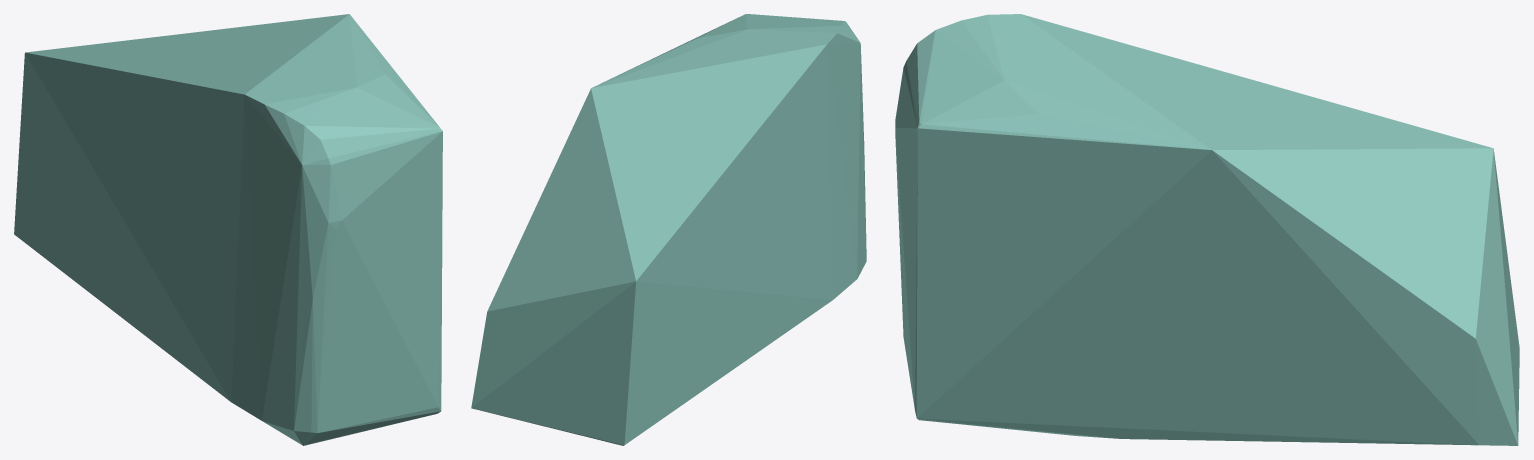
The model's file is equipment_sprayGunCleaningStation_dualOpen_b01.glb.
3 renders of one model, left to right at view 1: azimuth 30°, elevation 25°; view 2: azimuth 150°, elevation 25°; view 3: azimuth 270°, elevation 25°, orthographic. The views are drawn at different scales.
Visible parts, largest first — view 1: geometry_0; view 2: geometry_0; view 3: geometry_0.
Part boxes in pixels (x1,y1,x2,y2): geometry_0: [14, 14, 442, 445]; geometry_0: [471, 14, 866, 445]; geometry_0: [895, 14, 1519, 445].
Size of the model in its own units: 0.1914 by 0.3019 by 0.4778.
